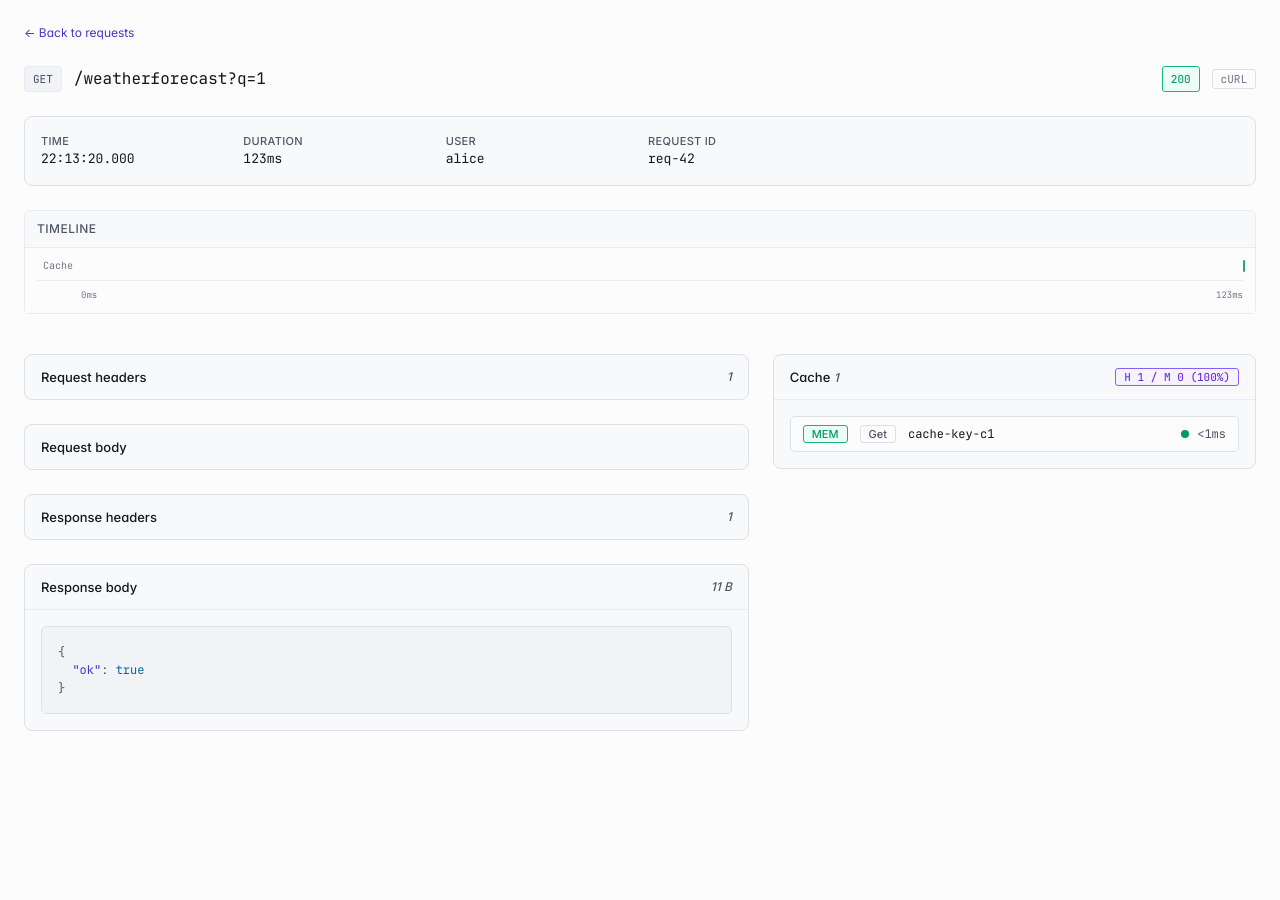
RequestDetail — Cache section › toggles expanded body on click and shows key
The image size is (1280, 900).
Click the button "MEM Get cache-key-c1 <1ms". click: (825, 434)
box: left=791, top=417, right=1238, bottom=451
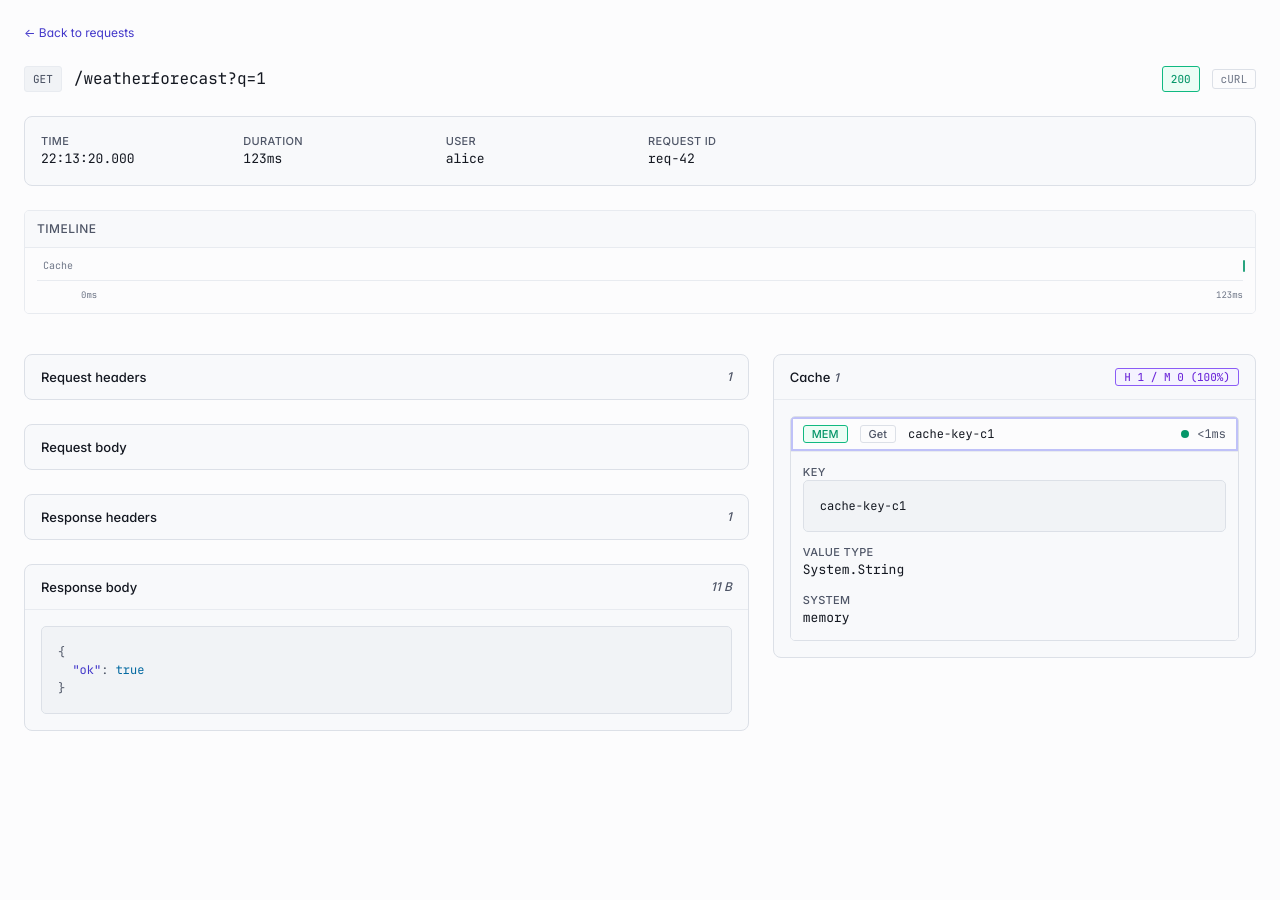
Expected: the element with test id "cache-row-body" is shown, left=791, top=451, right=1238, bottom=640
Expected: the element with test id "cache-row-body" shows "cache-key-c1", left=820, top=498, right=906, bottom=514
